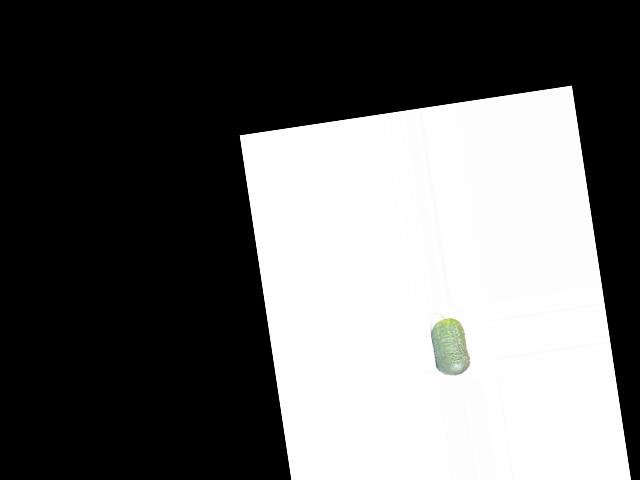cucumber: (428, 309, 471, 377)
